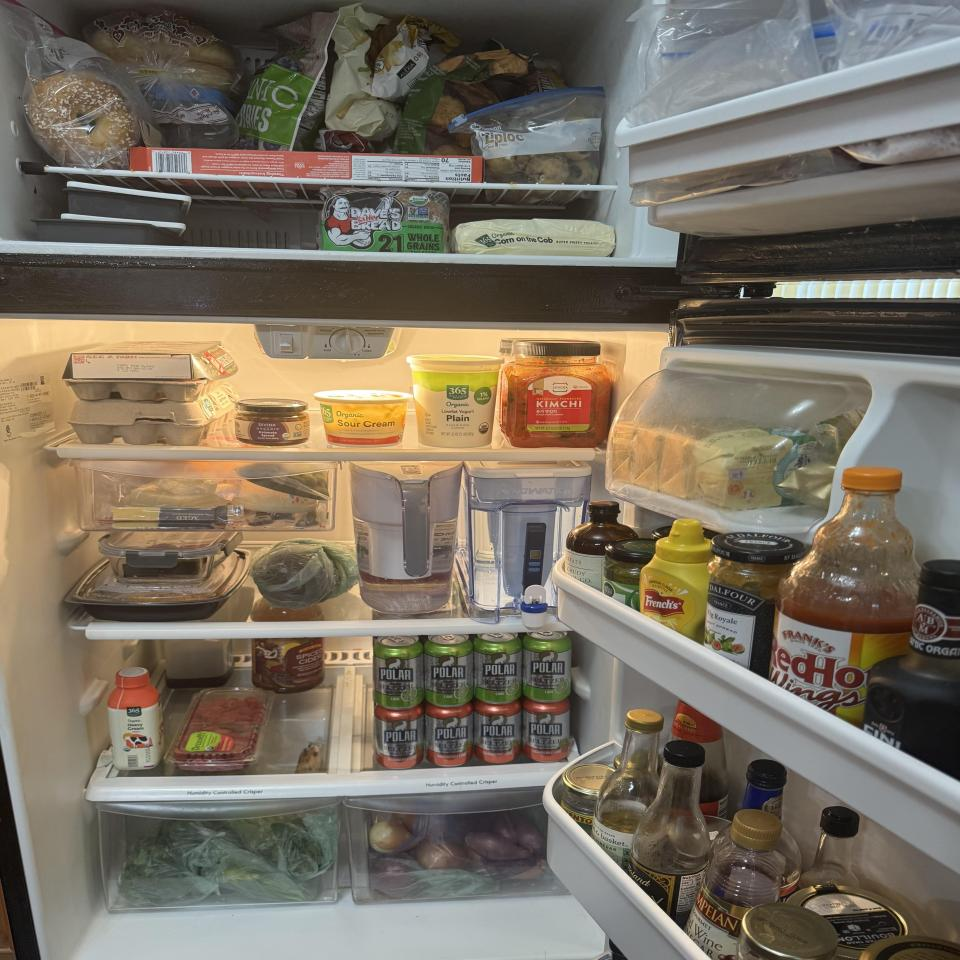Huevos: (62, 340, 238, 402), (66, 383, 239, 446)
Mantequilla: (692, 426, 817, 510), (659, 433, 704, 500), (611, 420, 652, 483), (632, 428, 666, 491)
Queso: (111, 506, 244, 529)
Yogur: (406, 354, 505, 449), (314, 389, 414, 449)
mustard: (638, 519, 714, 645)
